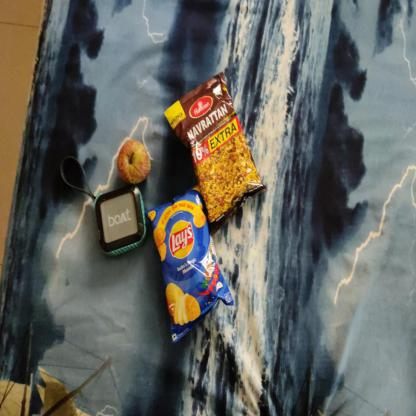indian_magic_masala: (148, 185, 231, 340)
